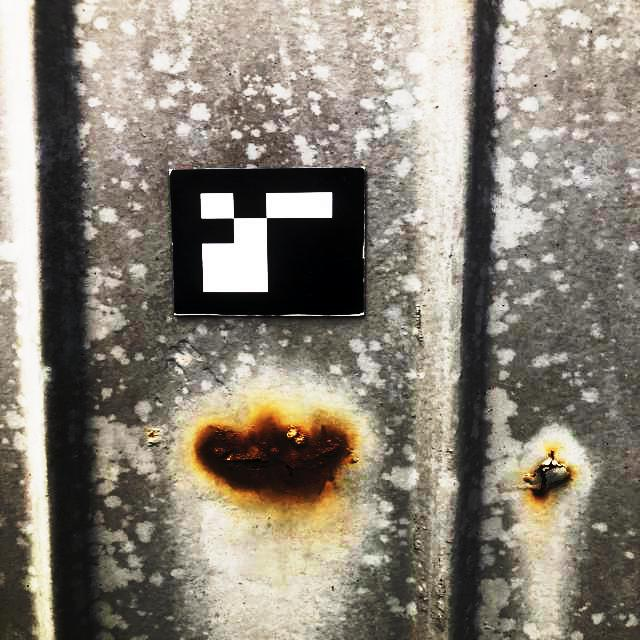Corrosion: (187, 397, 360, 502), (521, 445, 577, 504), (147, 429, 156, 438)
